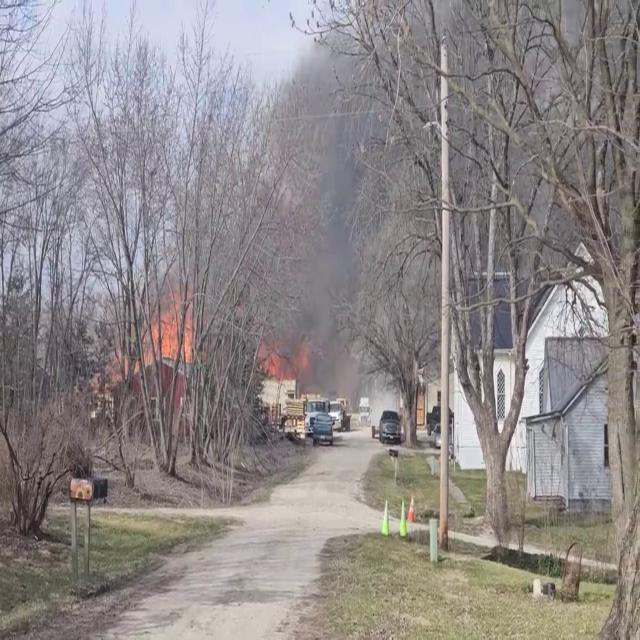Fire: (148, 283, 196, 368)
Smoke: (238, 6, 416, 368)
